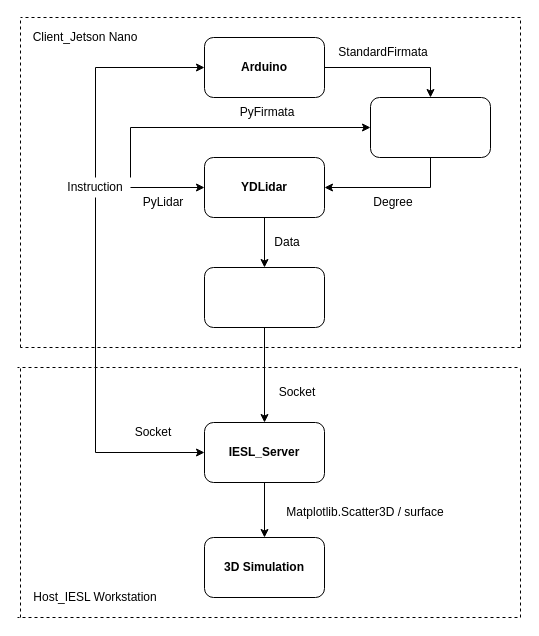
Image size: 539x636. Some labels were removed from this diagram. Here are the shapes that lost their labels. From the top down, the centre of each, then its label:
At point 430,127: "Spinning Motor".
At point 264,297: "Float 2D Arrays".
